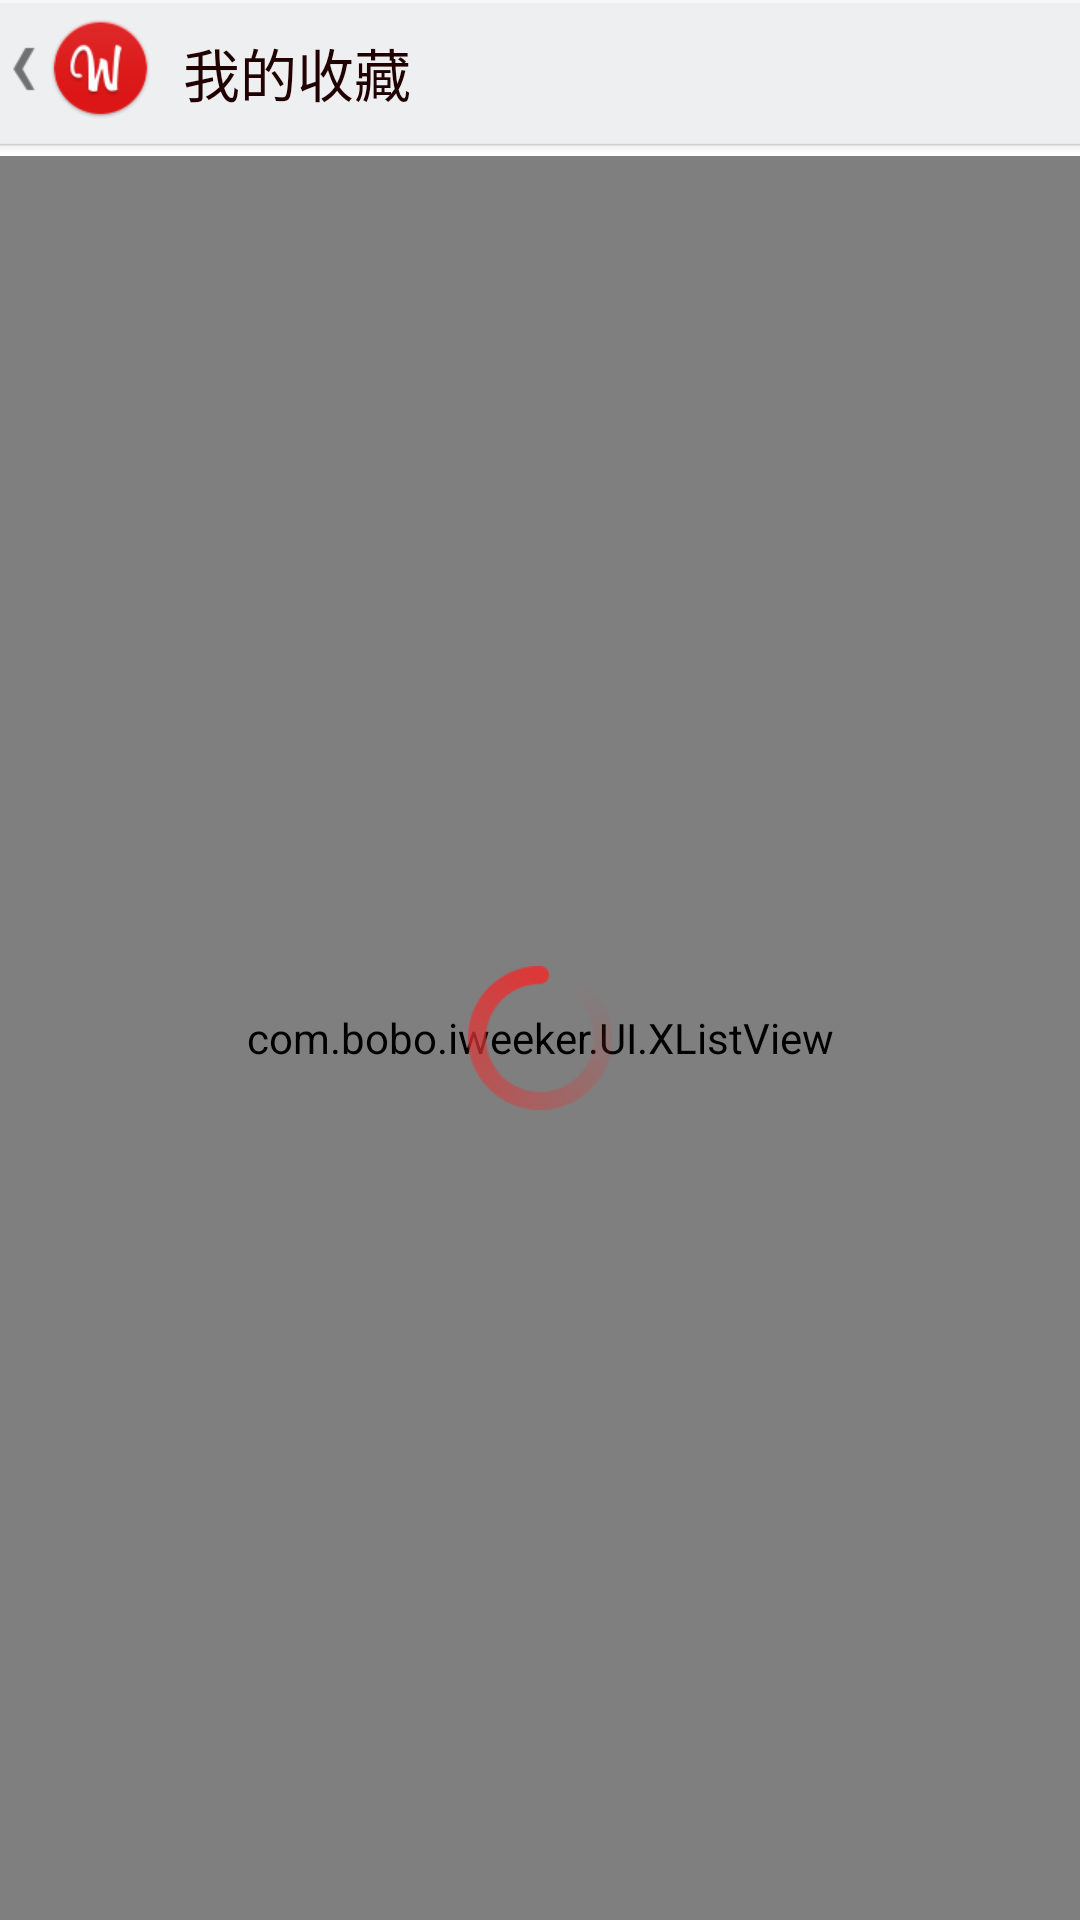

Point at icon controls on the screen. Image size 1080*1920, points as point (x, y).
activity back: point (24, 69)
